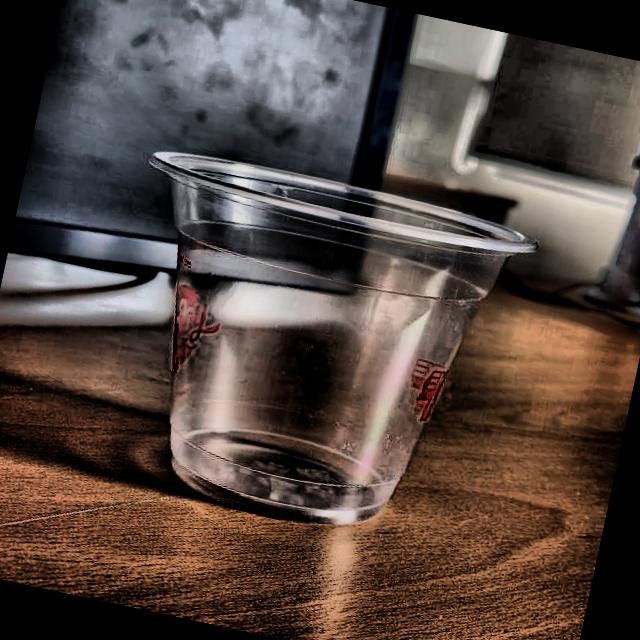plastic cup: (84, 140, 538, 562)
